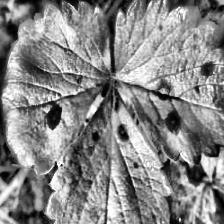Leaf Spot: (0, 0, 114, 178), (44, 81, 173, 224), (113, 0, 224, 165), (142, 149, 224, 224)
